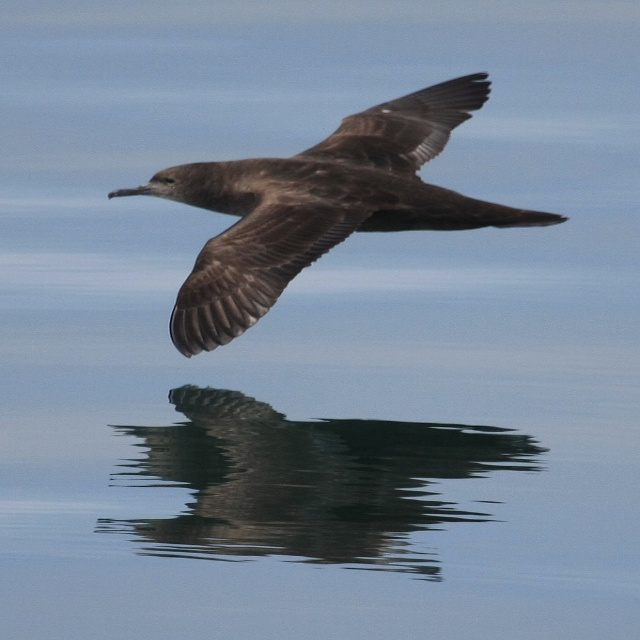Eagle: (102, 69, 573, 356)
